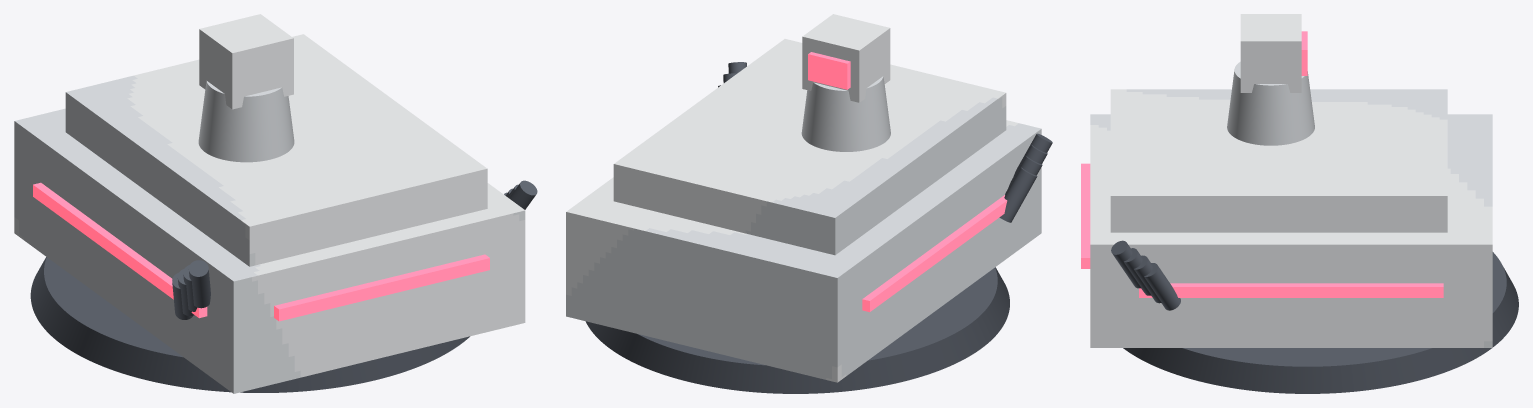
Rendered from Beast_turret.glb.
The picture shows the model from 3 angles, left to right: view 1: azimuth 30°, elevation 25°; view 2: azimuth 150°, elevation 25°; view 3: azimuth 270°, elevation 25°; orthographic projection. The views are drawn at different scales.
Parts seen in each view (by area): view 1: Beast_Turret; view 2: Beast_Turret; view 3: Beast_Turret.
Boxes of the visible parts, x1,y1,x2,y2 form: Beast_Turret: [14, 14, 537, 393]; Beast_Turret: [566, 14, 1052, 393]; Beast_Turret: [1081, 14, 1518, 393].
Bounding box in the file's own units: 2.08 × 1.42 × 2.15.
